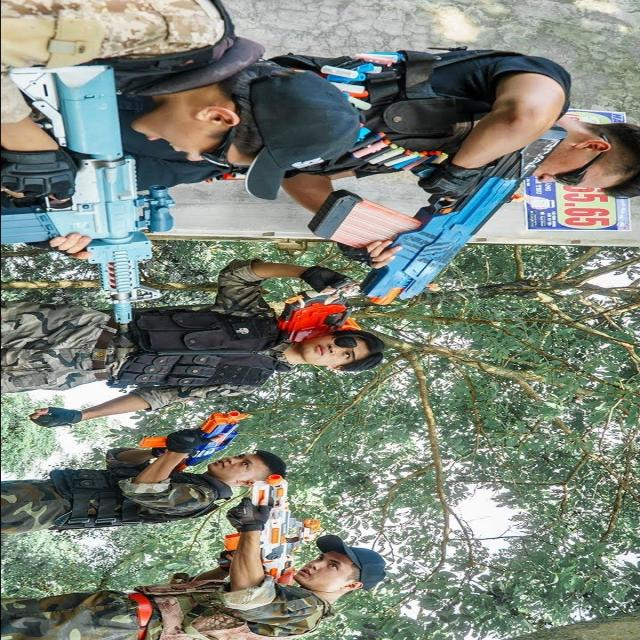Nerf gun: (311, 106, 574, 310), (2, 62, 183, 338), (215, 474, 324, 590), (137, 406, 263, 473), (268, 289, 363, 345)
